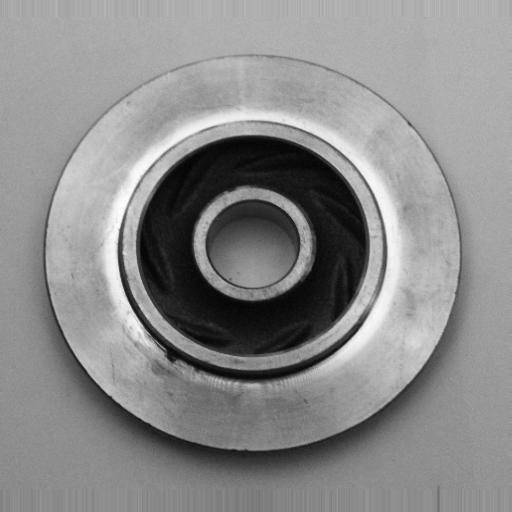crack: (157, 339, 194, 377)
unpolished_casting: (43, 50, 464, 456)
